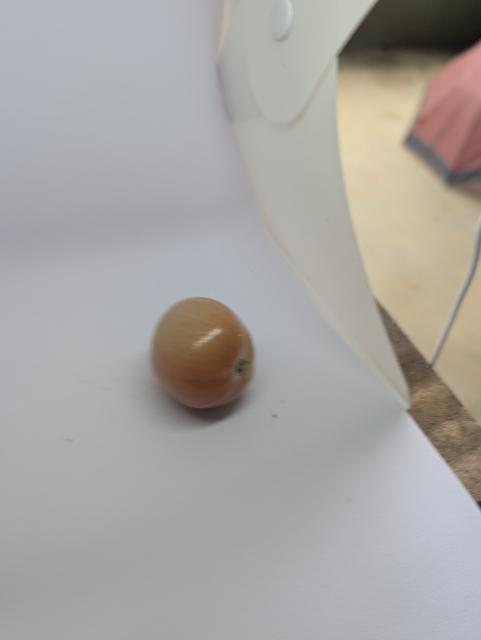turning: (146, 285, 278, 433)
